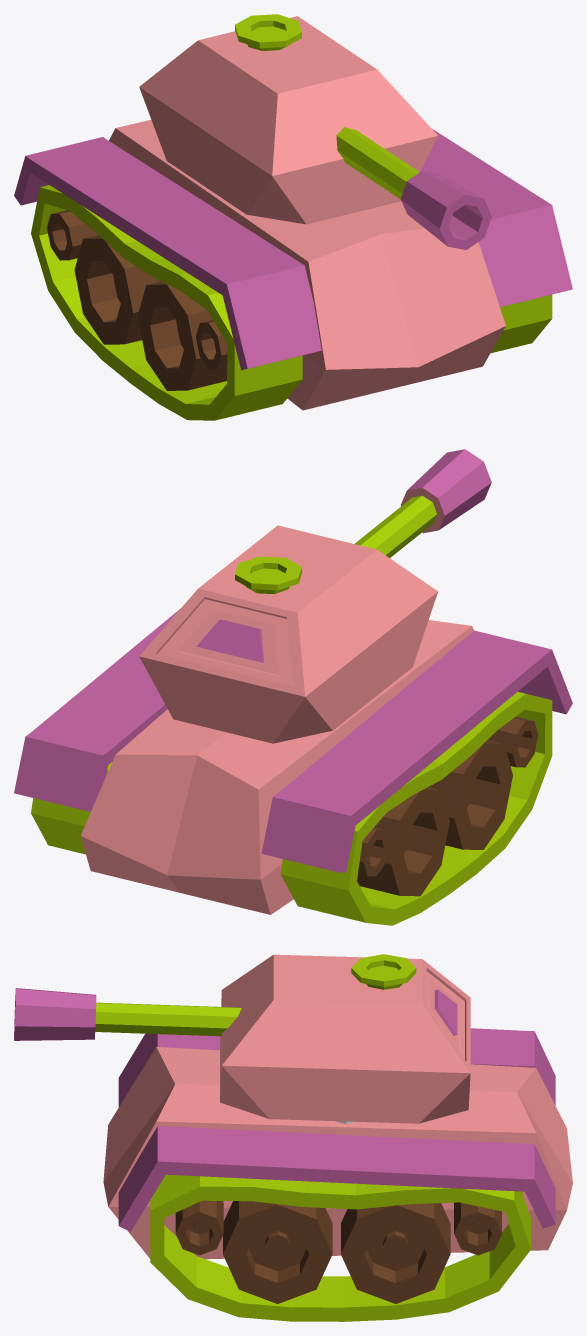
File: tank3-v.1.gltf
The picture shows the model from 3 angles, top to bottom: view 1: azimuth 30°, elevation 25°; view 2: azimuth 150°, elevation 25°; view 3: azimuth 270°, elevation 25°; orthographic projection. The views are drawn at different scales.
Visible parts, largest first — view 1: Cube.001, Cube.002, Cube, Cube.003, Cylinder.003, Cylinder.001, Cylinder.002, Cylinder.006, Cylinder.005, Cylinder.004; view 2: Cube.001, Cube.002, Cube, Cube.003, Cylinder.003, Cylinder.002, Cylinder.001, Cylinder.006, Cylinder.004, Cylinder.005; view 3: Cube.001, Cube.002, Cube, Cube.003, Cylinder.001, Cylinder.002, Cylinder.003, Cylinder.004, Cylinder.005, Cylinder.006.
Boxes of the visible parts, <box> form: Cube.001: <box>139,16,437,224</box>; Cube.002: <box>14,129,572,370</box>; Cube: <box>109,120,505,410</box>; Cube.003: <box>31,185,552,420</box>; Cylinder.003: <box>336,127,491,250</box>; Cylinder.001: <box>137,281,226,390</box>; Cylinder.002: <box>74,235,160,344</box>; Cylinder.006: <box>235,14,301,50</box>; Cylinder.005: <box>47,210,98,260</box>; Cylinder.004: <box>196,320,227,369</box>; Cube.001: <box>139,525,438,743</box>; Cube.002: <box>14,608,572,872</box>; Cube: <box>80,620,473,914</box>; Cube.003: <box>31,692,552,925</box>; Cylinder.003: <box>355,449,491,557</box>; Cylinder.002: <box>357,787,449,896</box>; Cylinder.001: <box>428,740,512,849</box>; Cylinder.006: <box>235,556,301,594</box>; Cylinder.004: <box>488,716,538,767</box>; Cylinder.005: <box>358,827,389,876</box>; Cube.001: <box>220,954,470,1123</box>; Cube.002: <box>118,1028,555,1231</box>; Cube: <box>103,1047,572,1259</box>; Cube.003: <box>150,1174,530,1321</box>; Cylinder.001: <box>223,1201,332,1303</box>; Cylinder.002: <box>341,1203,450,1303</box>; Cylinder.003: <box>14,988,241,1040</box>; Cylinder.004: <box>175,1200,223,1255</box>; Cylinder.005: <box>454,1202,501,1255</box>; Cylinder.006: <box>351,954,416,989</box>.
Bounding box in the file's own units: 3.23 × 2.86 × 5.15.
